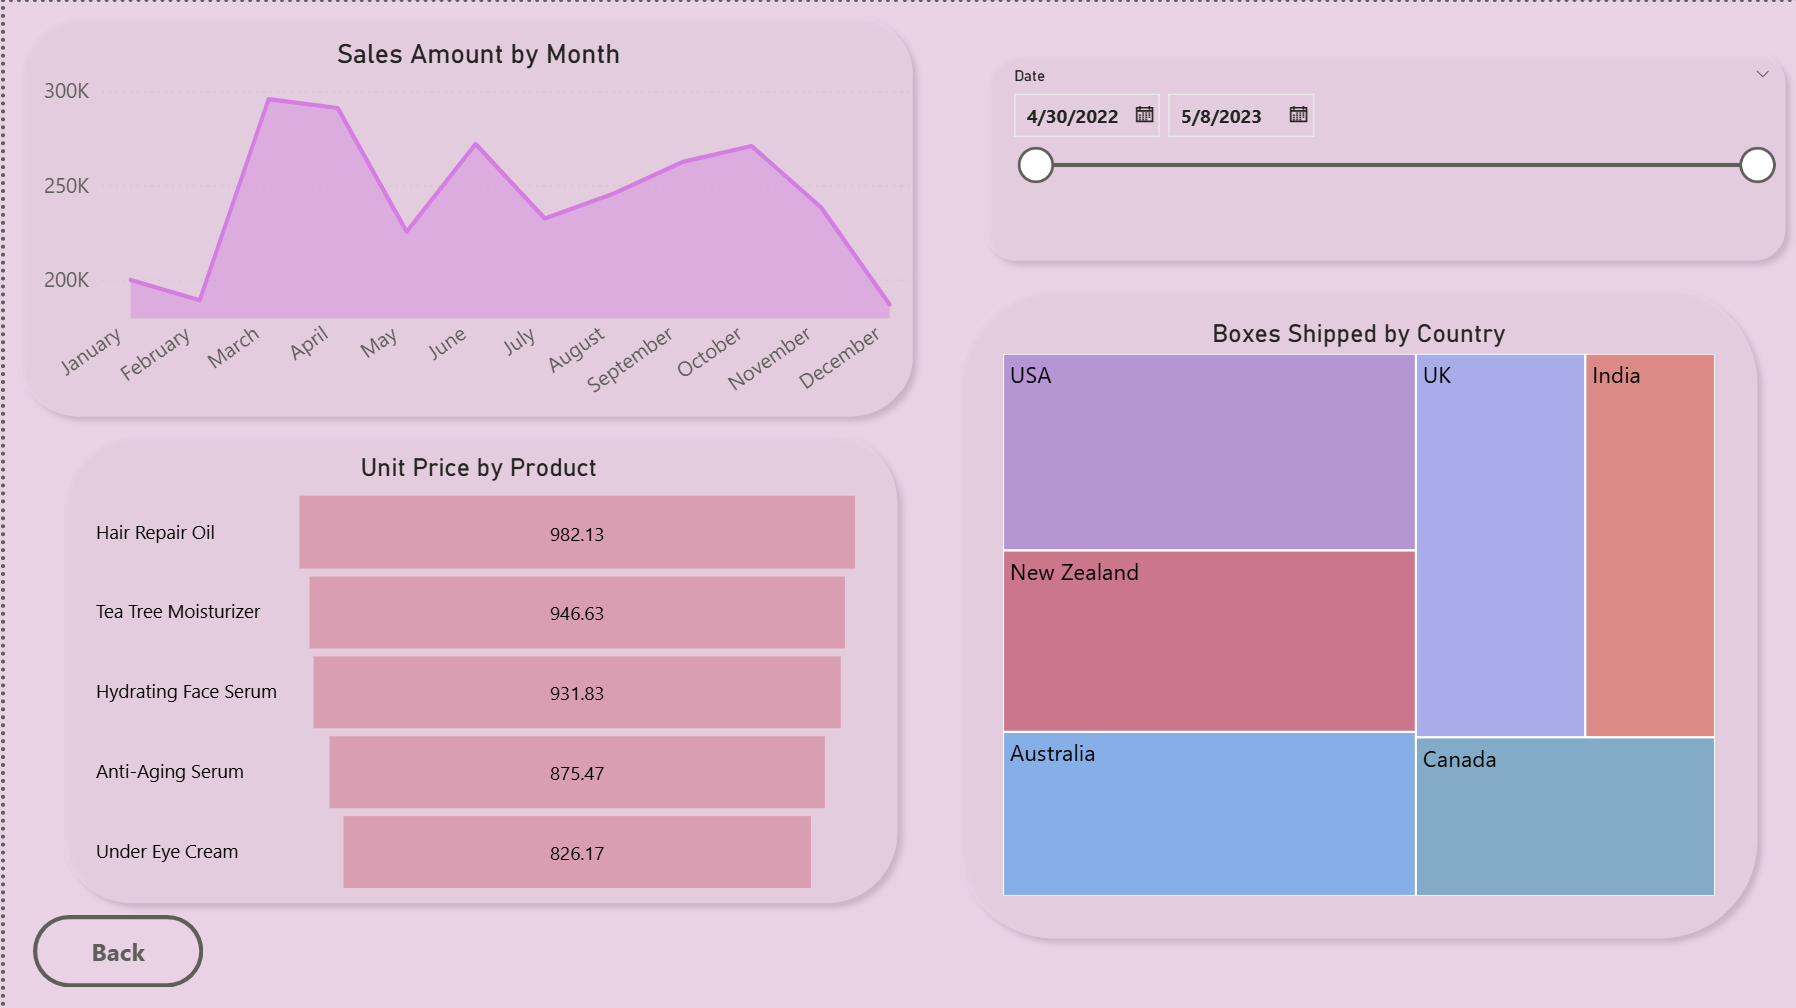

Layout of this report page (visuals, bound fields, positions):
{"tool":"powerbi","page":{"name":"Detailed Sales Analysis","canvas":[1280,720],"ordinal":1},"visuals":[{"type":"shape","box":[690,26.7,590,166.7],"z":0},{"type":"slicer","fields":{"Values":["cosmetics_data.Date"]},"box":[706.7,41.7,565,121.7],"z":1000},{"type":"shape","box":[0,0,656.7,305],"z":2000},{"type":"areaChart","title":"Sales Amount by Month","fields":{"Category":["cosmetics_data.Date.Variation.Date Hierarchy.Month"],"Y":["Sum(cosmetics_data.Sales Amount)"]},"box":[20,25,636.7,278.3],"z":3000},{"type":"shape","box":[31.7,298.3,615,353.3],"z":4000},{"type":"funnel","title":"Unit Price by Product","fields":{"Category":["cosmetics_data.Product"],"Y":["Sum(cosmetics_data.Unit Price)"]},"box":[60,321.4,557.1,321.4],"z":5000},{"type":"actionButton","box":[20,651.7,121.7,51.7],"z":6000},{"type":"shape","box":[670,194.3,590,482.9],"z":7000},{"type":"treemap","title":"Boxes Shipped by Country","fields":{"Group":["cosmetics_data.Country"],"Values":["Sum(cosmetics_data.Boxes Shipped)"]},"box":[707.1,225.7,518.6,417.1],"z":8000}]}

Visuals, with their boxes in screenshot pixels (x1, y1, x2, y2), scaled from the page's 1280x720 canvas onto the 1796x1008 screenshot:
shape: [left=968, top=37, right=1795, bottom=271]
slicer - cosmetics_data.Date: [left=992, top=58, right=1784, bottom=229]
shape: [left=0, top=0, right=921, bottom=427]
"Sales Amount by Month" areaChart: [left=28, top=35, right=921, bottom=425]
shape: [left=44, top=418, right=907, bottom=912]
"Unit Price by Product" funnel: [left=84, top=450, right=866, bottom=900]
actionButton: [left=28, top=912, right=199, bottom=985]
shape: [left=940, top=272, right=1768, bottom=948]
"Boxes Shipped by Country" treemap: [left=992, top=316, right=1720, bottom=900]
